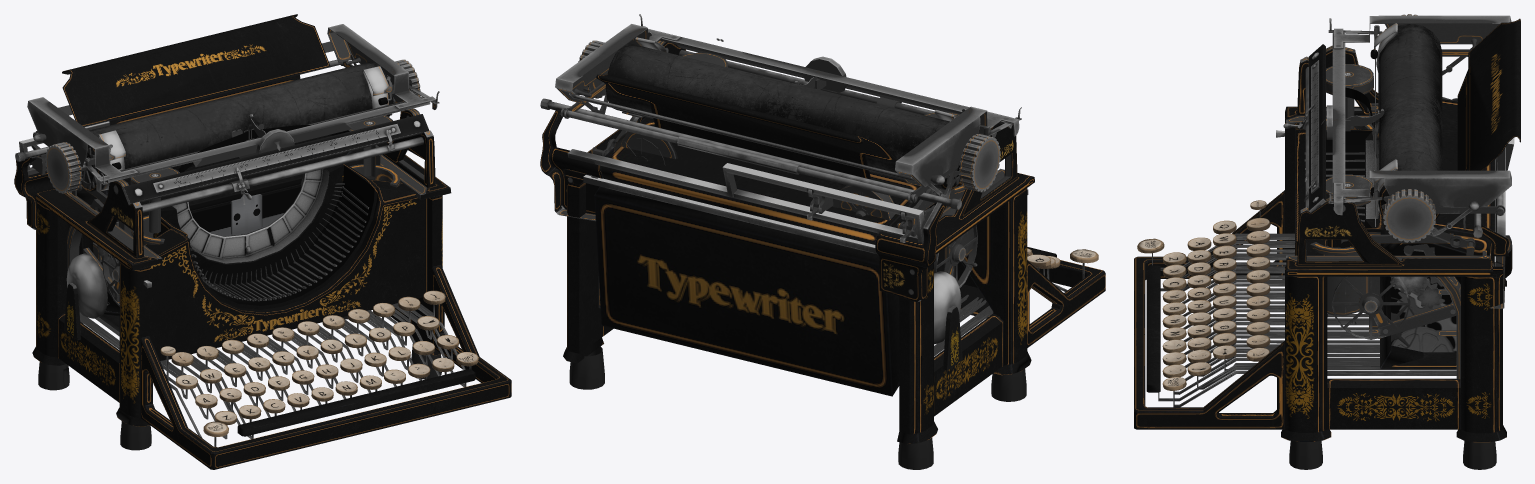
File: typewriter.glb
3 views of the same model, side by side, from view 1: azimuth 30°, elevation 25°; view 2: azimuth 150°, elevation 25°; view 3: azimuth 270°, elevation 25° (orthographic). The views are drawn at different scales.
Parts seen in each view (by area): view 1: Maquina_de_escribir:maquina, Maquina_de_escribir:maquina1, Maquina_de_escribir:maquina4, Maquina_de_escribir:polySurface12, Maquina_de_escribir:polySurface103, Maquina_de_escribir:polySurface109, Maquina_de_escribir:polySurface104; view 2: Maquina_de_escribir:maquina1, Maquina_de_escribir:polySurface12, Maquina_de_escribir:polySurface103, Maquina_de_escribir:polySurface109, Maquina_de_escribir:maquina, Maquina_de_escribir:polySurface104, Maquina_de_escribir:maquina4; view 3: Maquina_de_escribir:maquina, Maquina_de_escribir:maquina1, Maquina_de_escribir:polySurface104, Maquina_de_escribir:maquina4, Maquina_de_escribir:polySurface12, Maquina_de_escribir:polySurface103, Maquina_de_escribir:polySurface109.
Part boxes in pixels (left/top/right/bottom): Maquina_de_escribir:maquina: left=140, top=164, right=511, bottom=469; Maquina_de_escribir:maquina1: left=62, top=14, right=393, bottom=331; Maquina_de_escribir:maquina4: left=79, top=183, right=478, bottom=446; Maquina_de_escribir:polySurface12: left=15, top=41, right=430, bottom=340; Maquina_de_escribir:polySurface103: left=14, top=97, right=249, bottom=323; Maquina_de_escribir:polySurface109: left=32, top=201, right=151, bottom=450; Maquina_de_escribir:polySurface104: left=251, top=24, right=451, bottom=199; Maquina_de_escribir:maquina1: left=594, top=43, right=960, bottom=396; Maquina_de_escribir:polySurface12: left=540, top=37, right=1028, bottom=370; Maquina_de_escribir:polySurface103: left=807, top=106, right=1034, bottom=302; Maquina_de_escribir:polySurface109: left=897, top=188, right=1031, bottom=469; Maquina_de_escribir:maquina: left=563, top=177, right=1105, bottom=389; Maquina_de_escribir:polySurface104: left=540, top=14, right=727, bottom=308; Maquina_de_escribir:maquina4: left=934, top=247, right=1098, bottom=356; Maquina_de_escribir:maquina: left=1134, top=123, right=1506, bottom=469; Maquina_de_escribir:maquina1: left=1378, top=18, right=1520, bottom=369; Maquina_de_escribir:polySurface104: left=1285, top=121, right=1512, bottom=379; Maquina_de_escribir:maquina4: left=1137, top=152, right=1456, bottom=407; Maquina_de_escribir:polySurface12: left=1276, top=32, right=1514, bottom=266; Maquina_de_escribir:polySurface103: left=1285, top=14, right=1511, bottom=129; Maquina_de_escribir:polySurface109: left=1282, top=117, right=1506, bottom=286.
Size of the model in its own units: 0.3833 by 0.2911 by 0.3299.
Materials: 5 (5 with a texture image).
